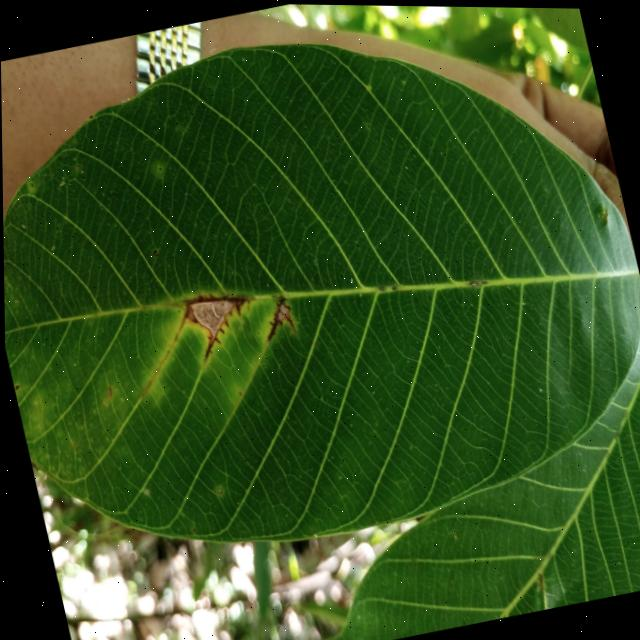Corynespora: (178, 285, 255, 362), (256, 293, 295, 341)
Leaf-Blight: (188, 294, 236, 339)
